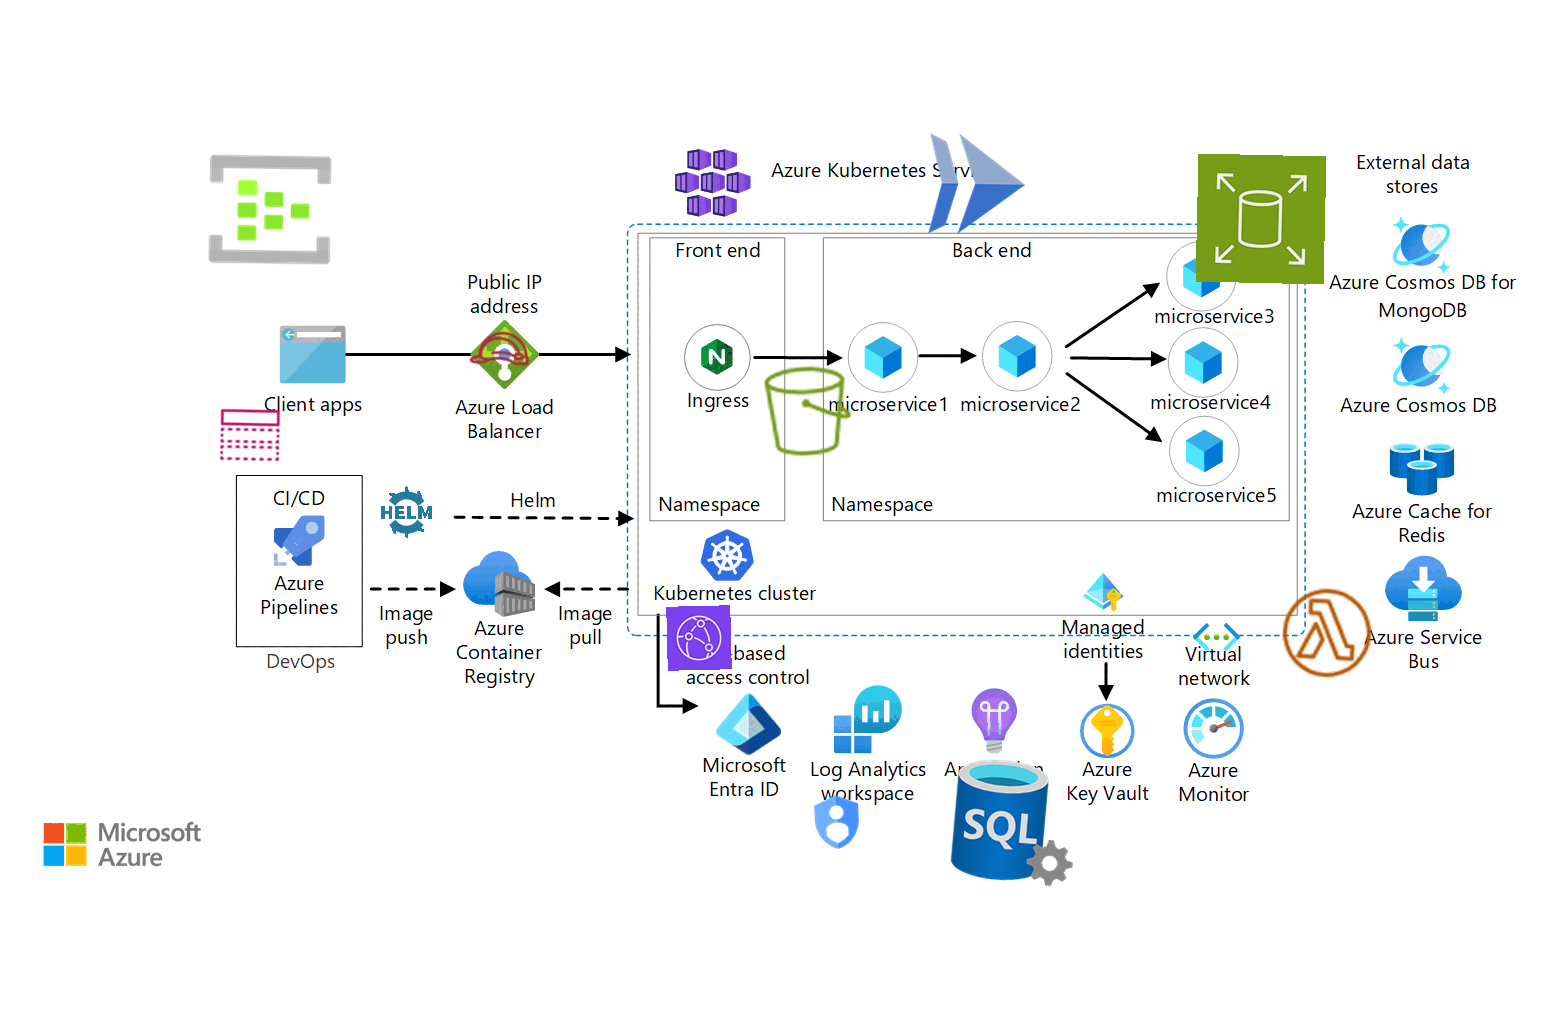aws_amazon_cloudfront: (666, 605, 732, 671)
aws_amazon_elastic_block_store: (1195, 152, 1327, 285)
aws_identity_access_management_role: (465, 314, 535, 384)
aws_lambda_lambda_function: (1276, 582, 1378, 684)
aws_simple_notification_service_topic: (217, 402, 283, 468)
aws_simple_storage_service_s3_standard: (757, 360, 859, 462)
azure_event_hubs: (205, 144, 335, 274)
azure_sql_server: (945, 752, 1085, 892)
gcp_cloud_run: (909, 118, 1041, 250)
gcp_identity_and_access_management: (803, 787, 871, 856)
